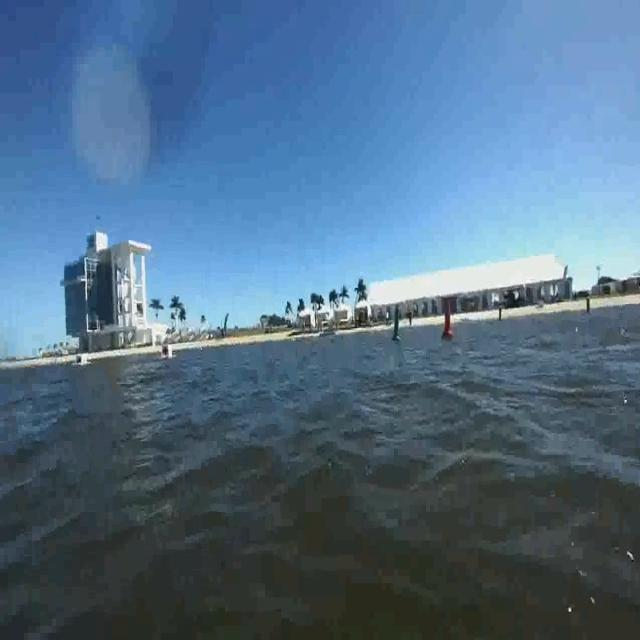green-column-buoy: (389, 306, 403, 342)
red-column-buoy: (442, 299, 457, 338)
